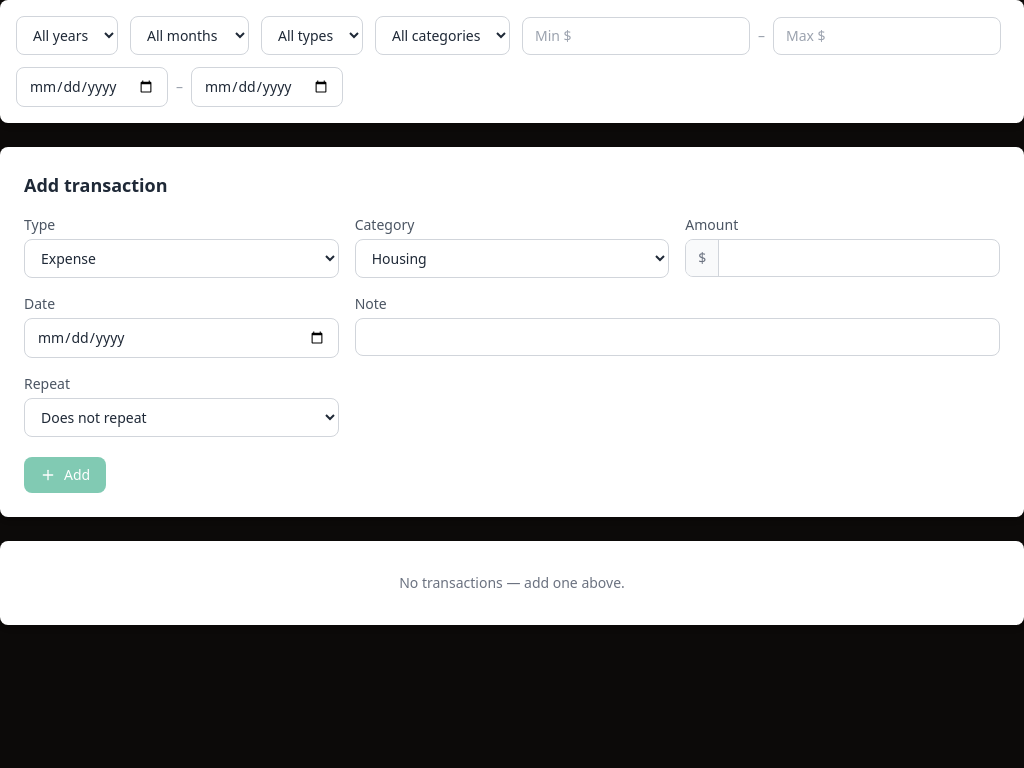
Scenario: TransactionsPanel › keeps Add disabled until amount and date are set
The width and height of the screenshot is (1024, 768).
Expected: the button "Add" is disabled, [24,457,106,493]
Type "5" into the field labelled "Amount" at [859, 258], box [719,240,999,276]
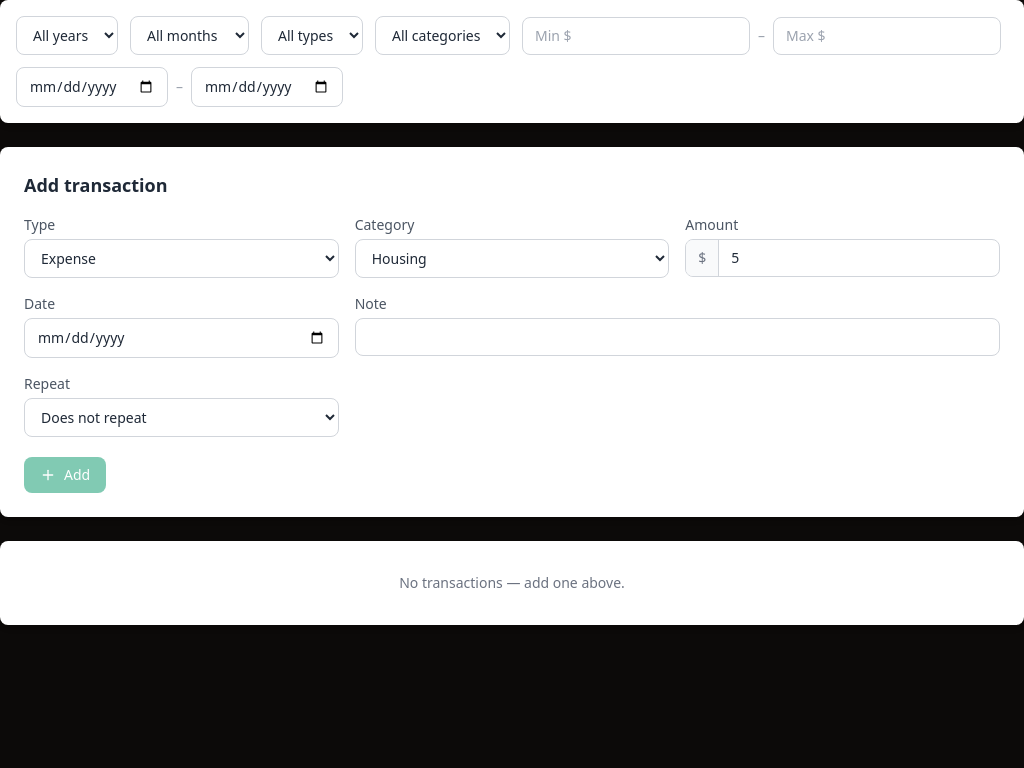
Type "2026-05-01" into the 3rd date field at [181, 338], box [24,318,339,358]
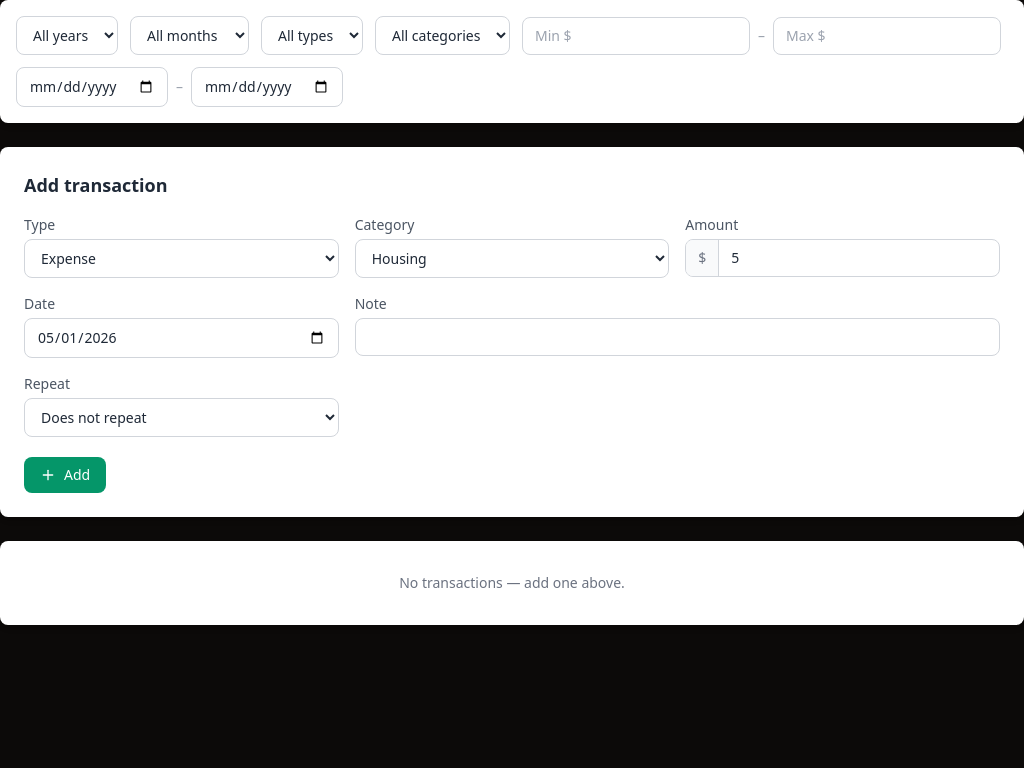
Result: the button "Add" is enabled at [24,457,106,493]
